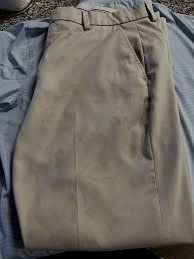oil: (107, 123, 144, 160)
